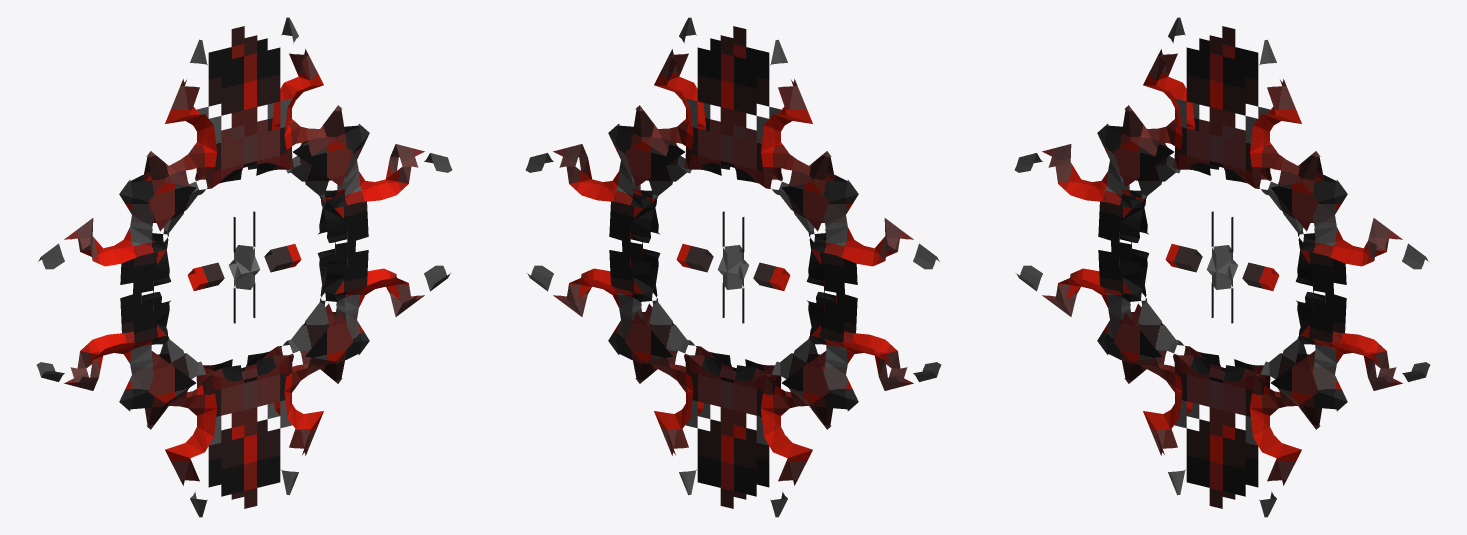
Rendered from corona.obj.
3 views of the same model, side by side, from view 1: azimuth 30°, elevation 25°; view 2: azimuth 150°, elevation 25°; view 3: azimuth 330°, elevation 25° (orthographic).
Size of the model in its own units: 93.69 by 94.42 by 4.43.
